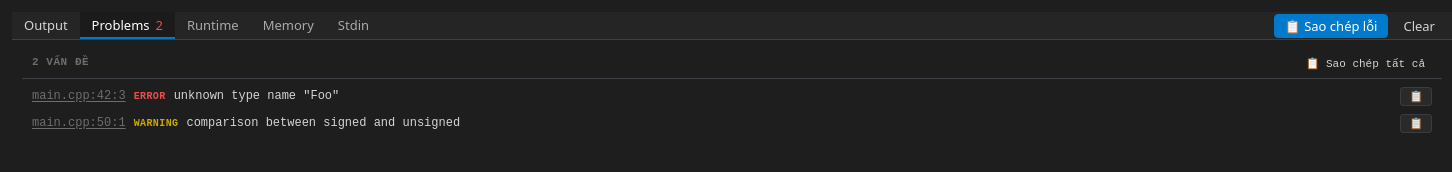
Problems Tab Copy Button UI › copies all problems to clipboard when clicking copy all button
Click the button "📋 Sao chép tất cả" at (1365, 63), box [1299, 54, 1432, 72]
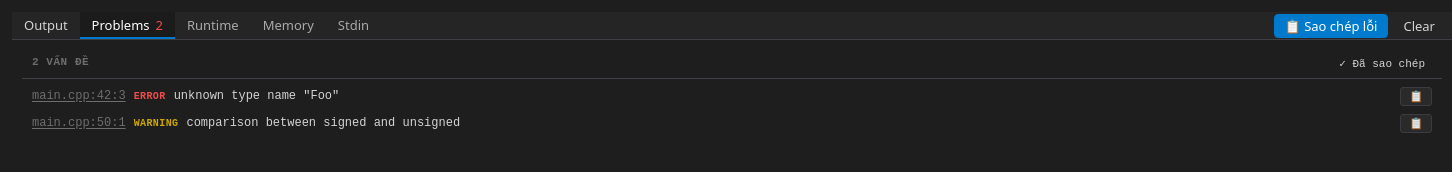
Expected: the button "✓ Đã sao chép" is shown, [1332, 54, 1432, 72]
